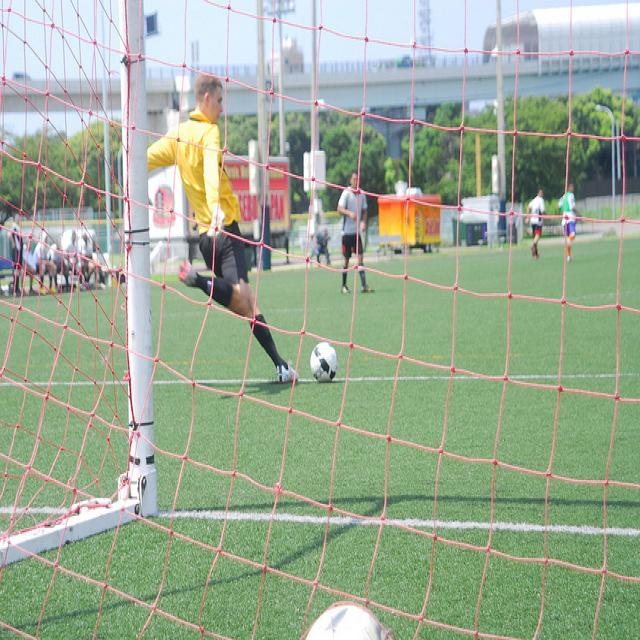Vehicle: (397, 56, 413, 67)
